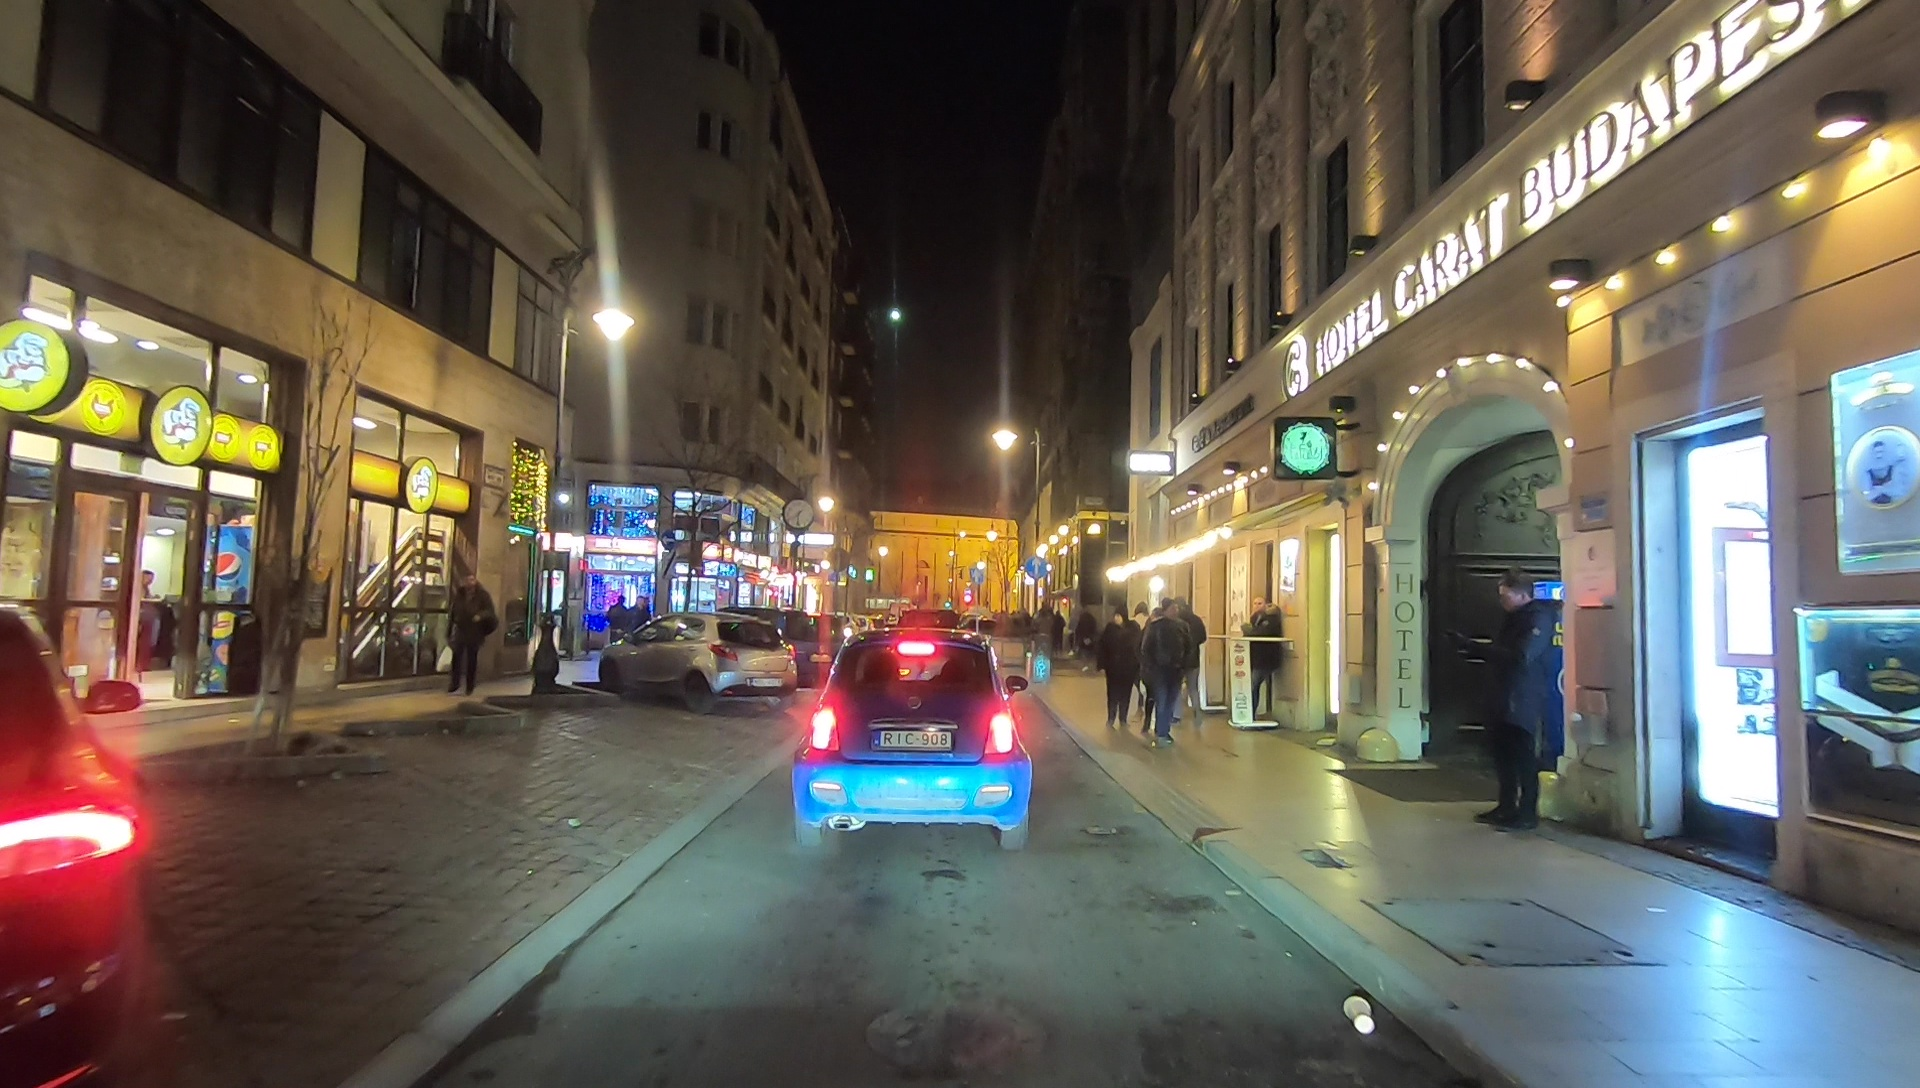person: (1461, 569, 1560, 829), (447, 571, 494, 697), (1168, 596, 1209, 729), (1244, 595, 1283, 720), (1149, 599, 1181, 745), (1103, 607, 1140, 732), (606, 594, 628, 659), (1075, 609, 1096, 670), (629, 593, 649, 652), (1051, 611, 1064, 653)
